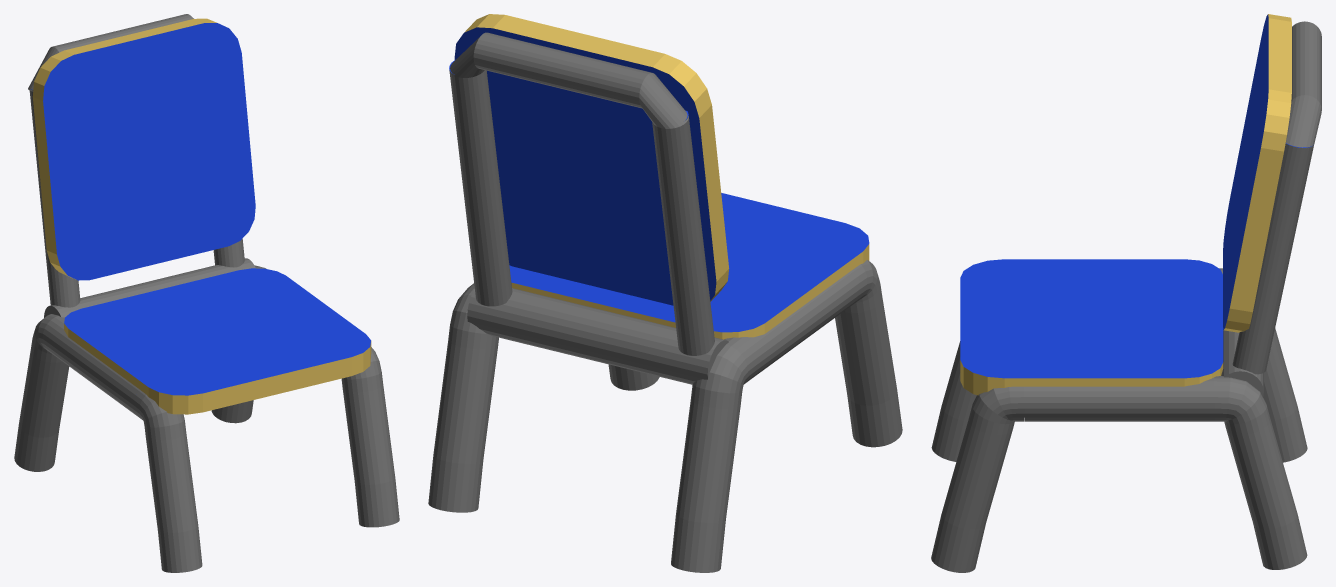
The model's file is silla.fbx.
The picture shows the model from 3 angles, left to right: view 1: azimuth 30°, elevation 25°; view 2: azimuth 150°, elevation 25°; view 3: azimuth 270°, elevation 25°; orthographic projection. The views are drawn at different scales.
Visible parts, largest first — view 1: Cylinder.007; view 2: Cylinder.007; view 3: Cylinder.007.
Part boxes in pixels (<box>): Cylinder.007: <box>14,14,399,572</box>; Cylinder.007: <box>428,14,902,572</box>; Cylinder.007: <box>931,14,1321,572</box>.
Size of the model in its own units: 81.26 by 136 by 105.
